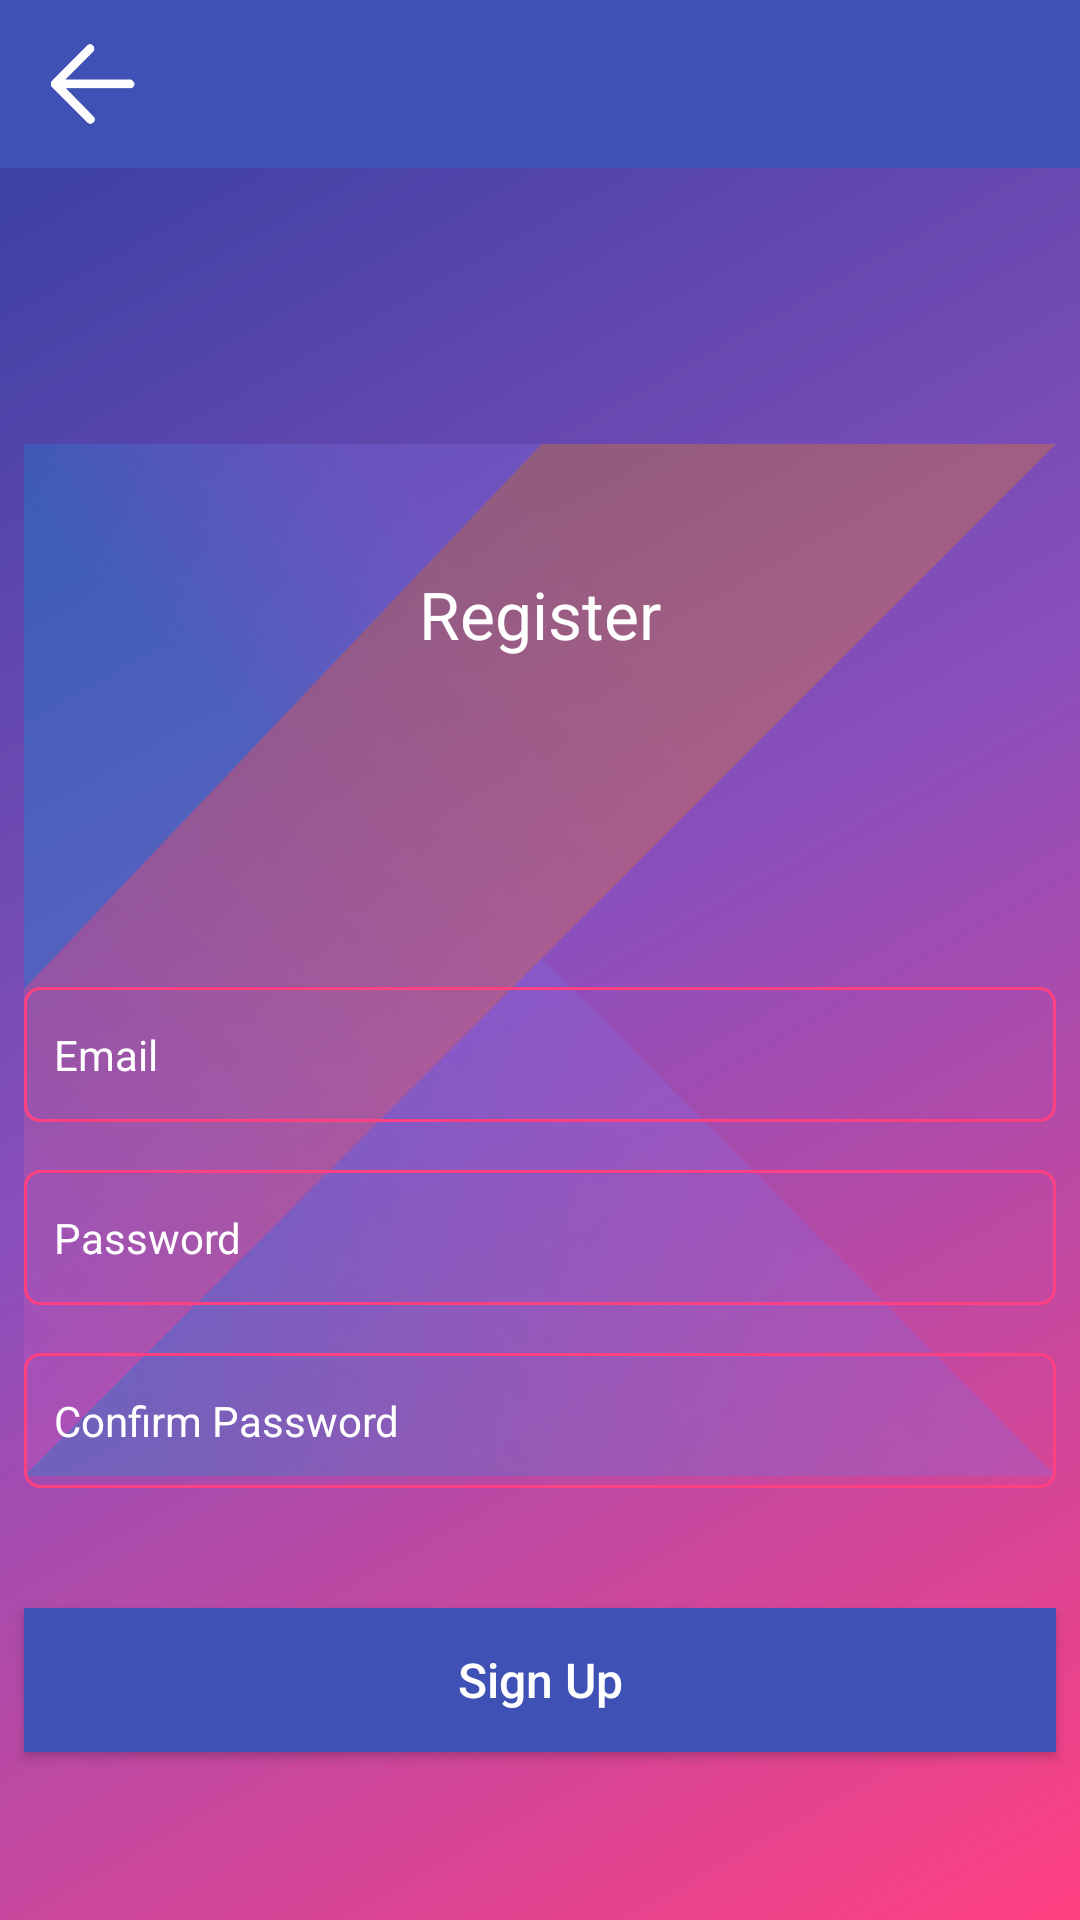

Named icons in this screenshot (1080x1920) and their bounding boxes, box=[x1, y1, x2, y2]:
back arrow: box=[51, 44, 135, 124]
